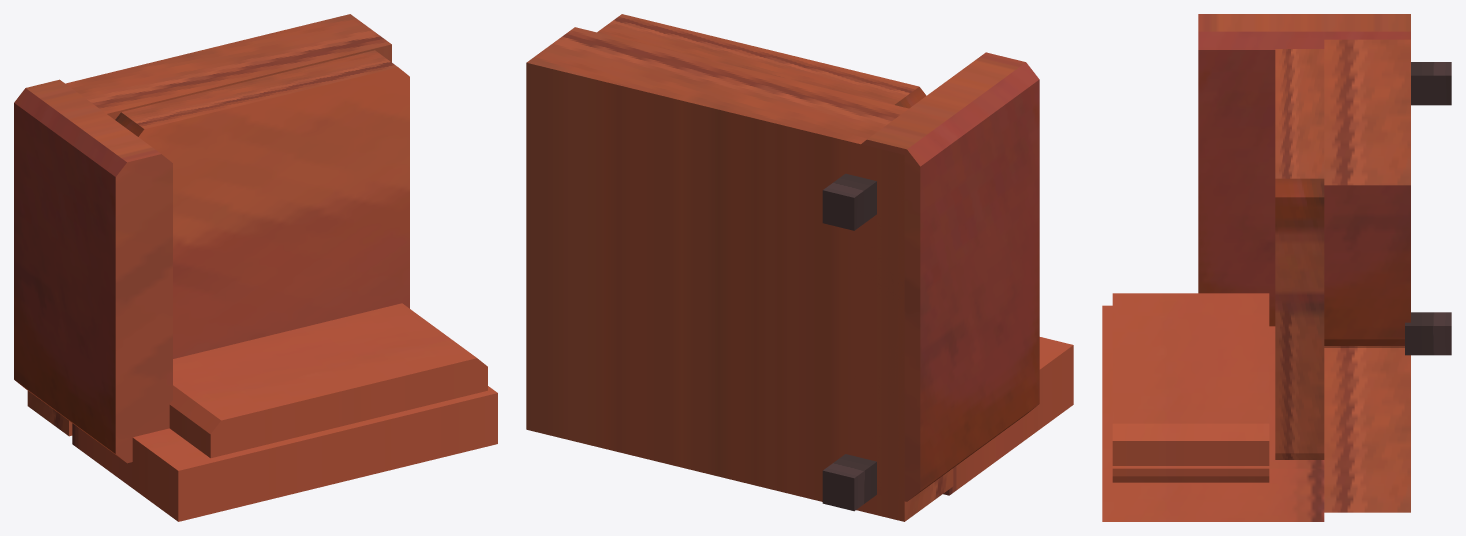
File: pz_sofa_seating_indoor_01_red_comfy_0_0.obj
3 renders of one model, left to right at view 1: azimuth 30°, elevation 25°; view 2: azimuth 150°, elevation 25°; view 3: azimuth 270°, elevation 25°, orthographic. The views are drawn at different scales.
Bounding box in the file's own units: 1 × 0.93 × 0.86.
1 material, 1 textured.
